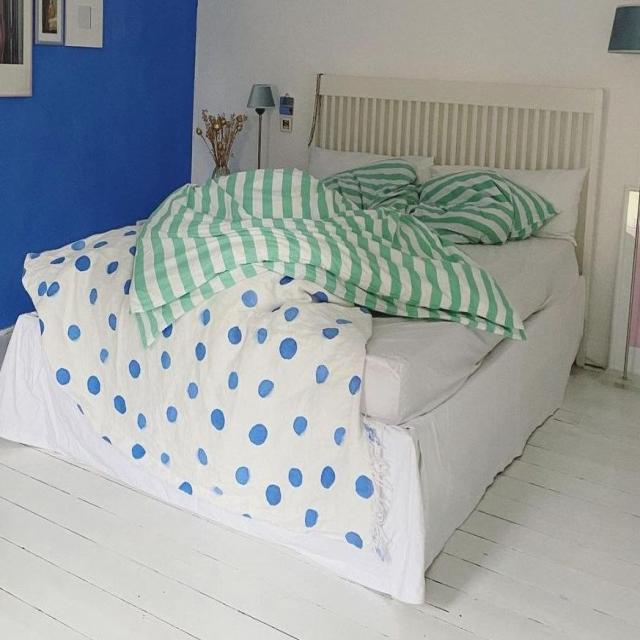bed: (6, 144, 588, 606)
